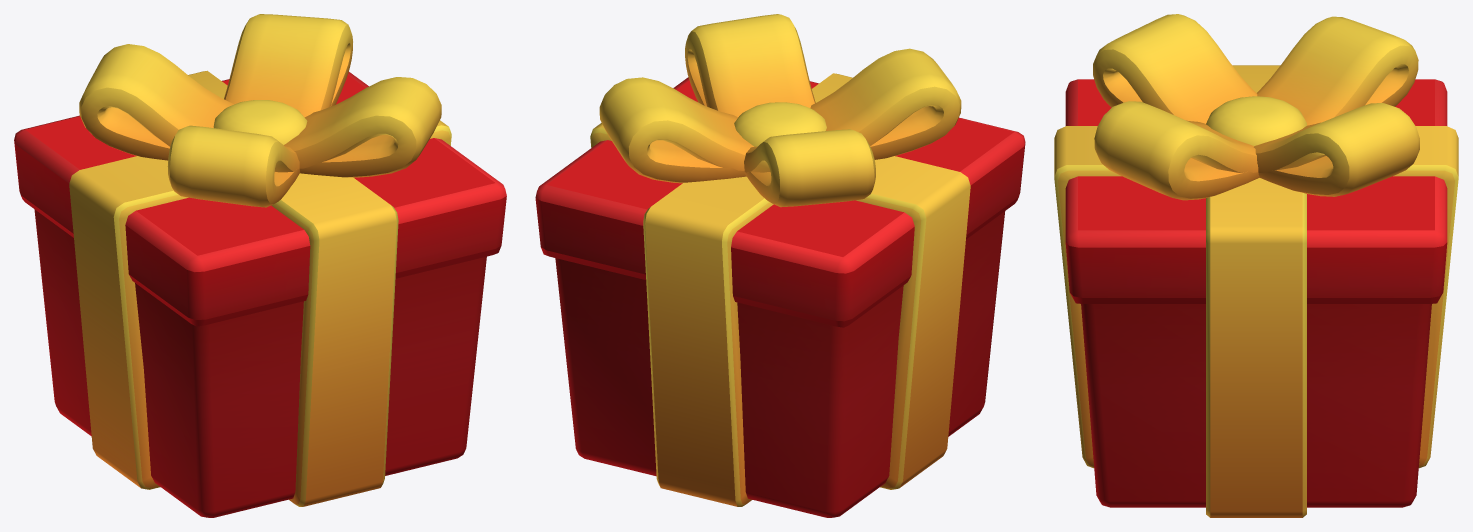
The model's file is gift.glb.
3 views of the same model, side by side, from view 1: azimuth 30°, elevation 25°; view 2: azimuth 150°, elevation 25°; view 3: azimuth 270°, elevation 25° (orthographic). The views are drawn at different scales.
Visible parts, largest first — view 1: Gift-1-1; view 2: Gift-1-1; view 3: Gift-1-1.
Boxes of the visible parts, x1,y1,x2,y2 form: Gift-1-1: [14, 14, 506, 517]; Gift-1-1: [535, 14, 1025, 517]; Gift-1-1: [1054, 14, 1458, 517].
Size of the model in its own units: 4.36 by 4.49 by 4.36.
1 material, 1 textured.
